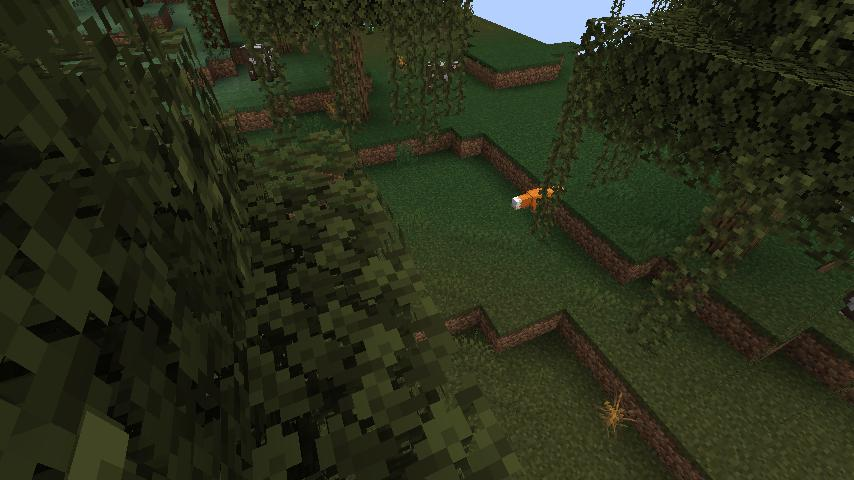cow: (238, 39, 287, 86), (425, 59, 462, 95), (841, 287, 854, 325)
fox: (508, 184, 565, 217)
